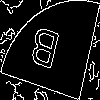B: (24, 25, 62, 79)
